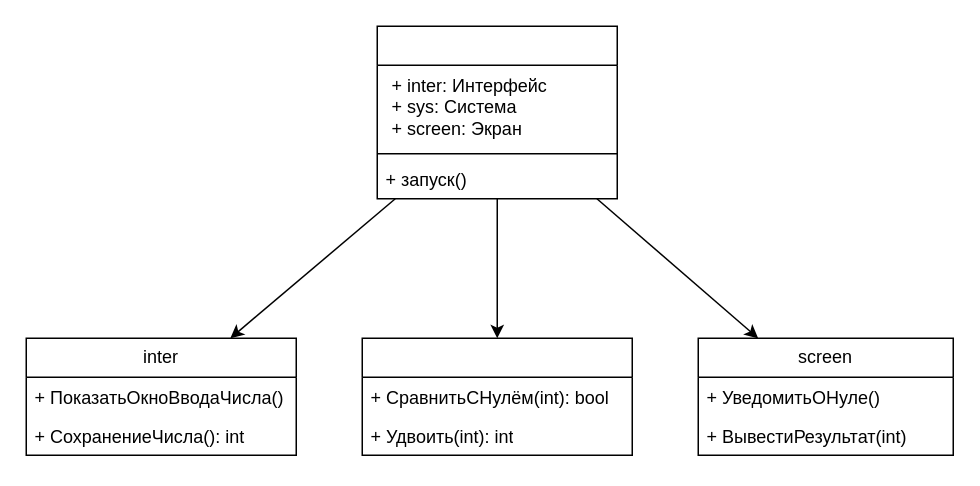
This 980x486 diagram has some shape labels left out. The box of each missing label's shape, as (x1, y1, x2, y2) in pixels:
sys: (361, 337, 632, 455)
Программа: (376, 25, 617, 199)
